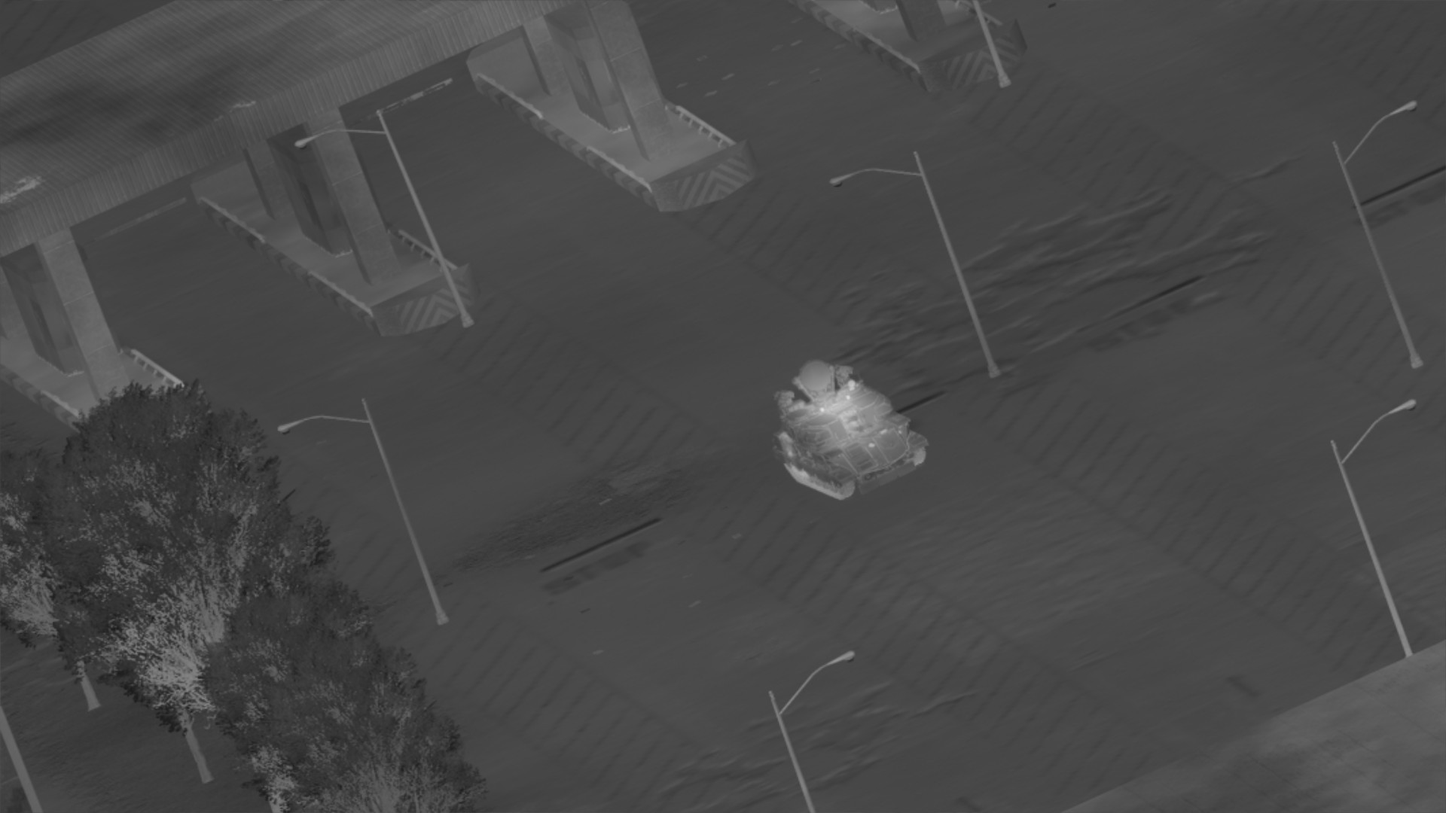spaa_zsu-23: (772, 360, 928, 502)
